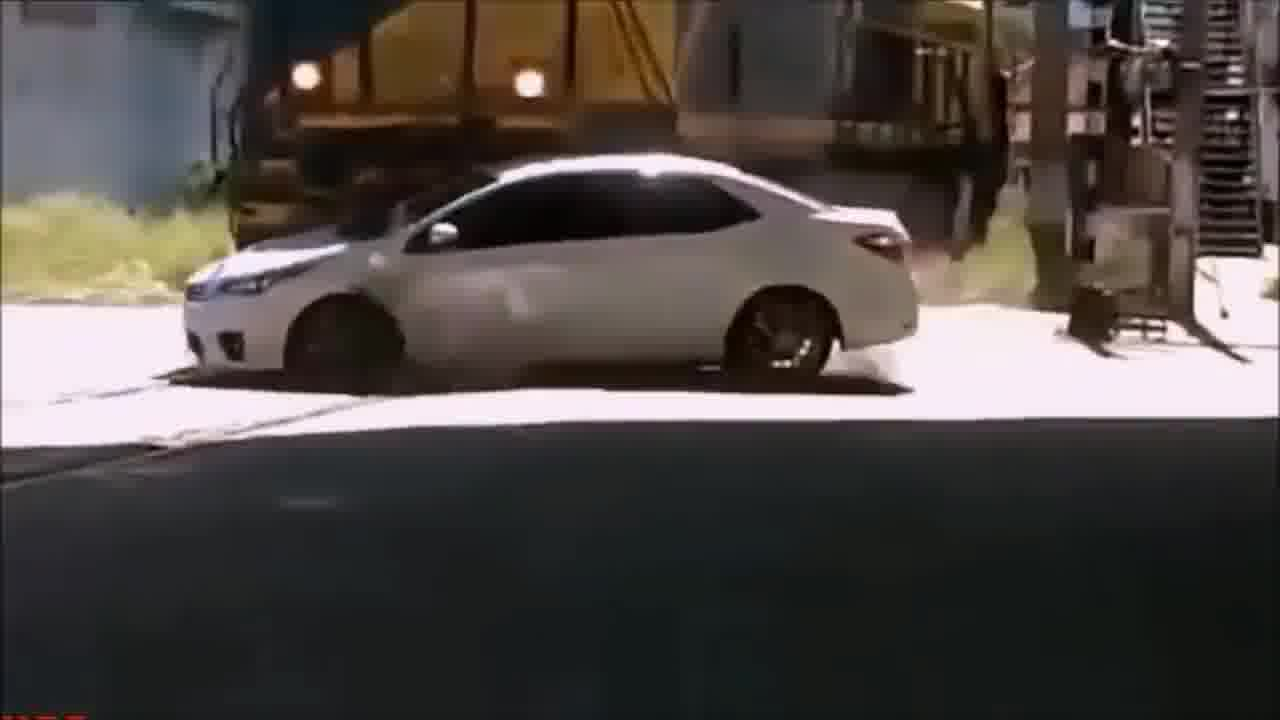crossing railway track: (134, 144, 936, 428)
